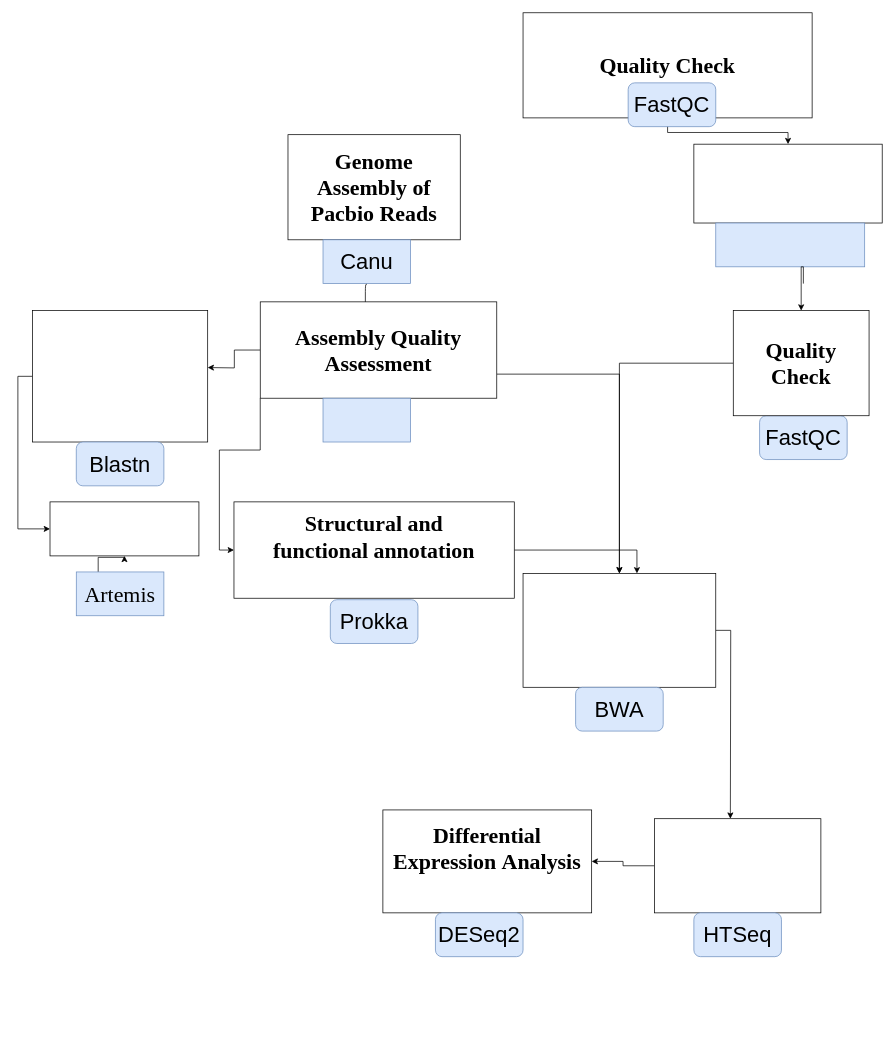
Some shapes in this 895 by 1049 pixel diagram are drawn without their labels. The centre of each missing label's shape, as x and y in pixels:
Differential Expression: point (737, 865)
Mapping/Aligning RNA onto Assembled Genome: point (619, 630)
QUAST: point (366, 419)
RNA: Reads Pre-Processing: point (787, 183)
Synteny Comparison: point (120, 376)
Trimmometric: point (790, 244)
Visualize Synteny: point (124, 528)
